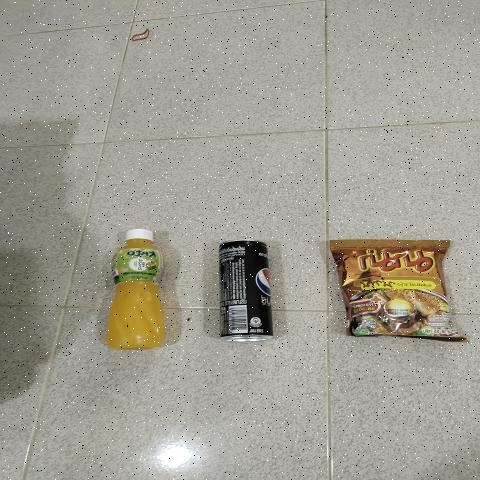mama: (346, 245, 445, 337)
pepsi_black: (224, 238, 268, 334)
